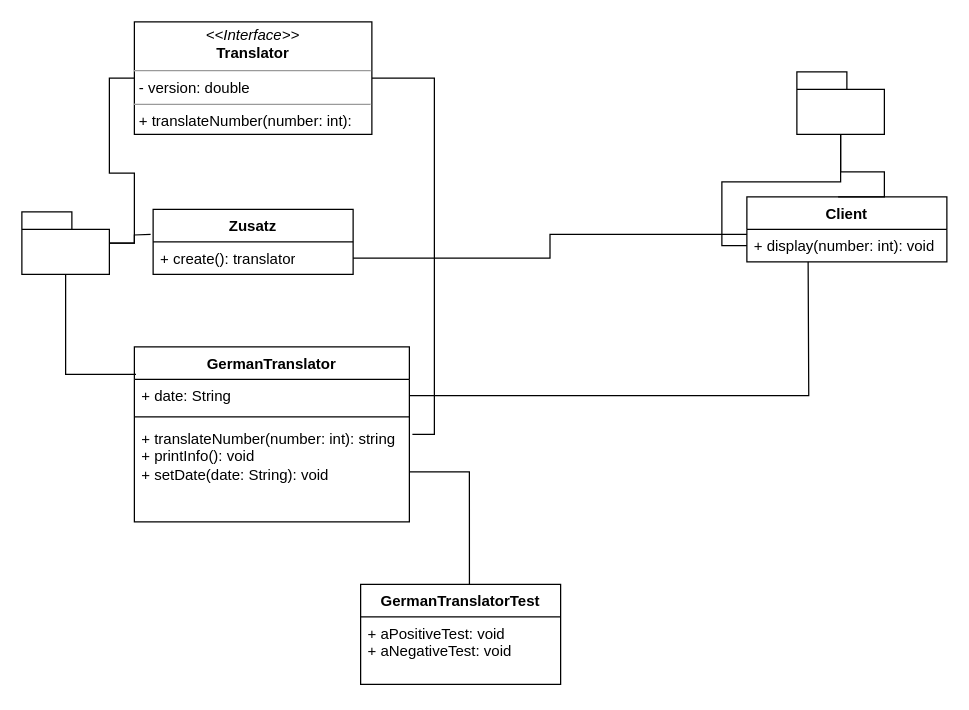
Image size: 969x710. Some labels were removed from this diagram. Here are the shapes that lost their labels. From the top down, the centre of each, then its label:
the point at 840,102: View
the point at 65,242: Control
